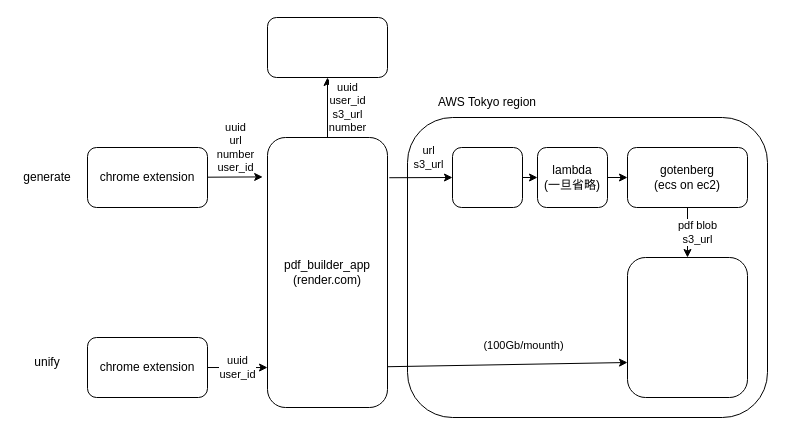
Some shapes in this 785 by 435 pixel diagram are drawn without their labels. The shapes that lost their labels are listed below. From the top down, each one's centre as x and y in pixels, then its label:
At [327,47]: "db (planetscale)".
At [487,177]: "sqs (一旦省略)".
At [687,327]: "pdf storage (s3)".
